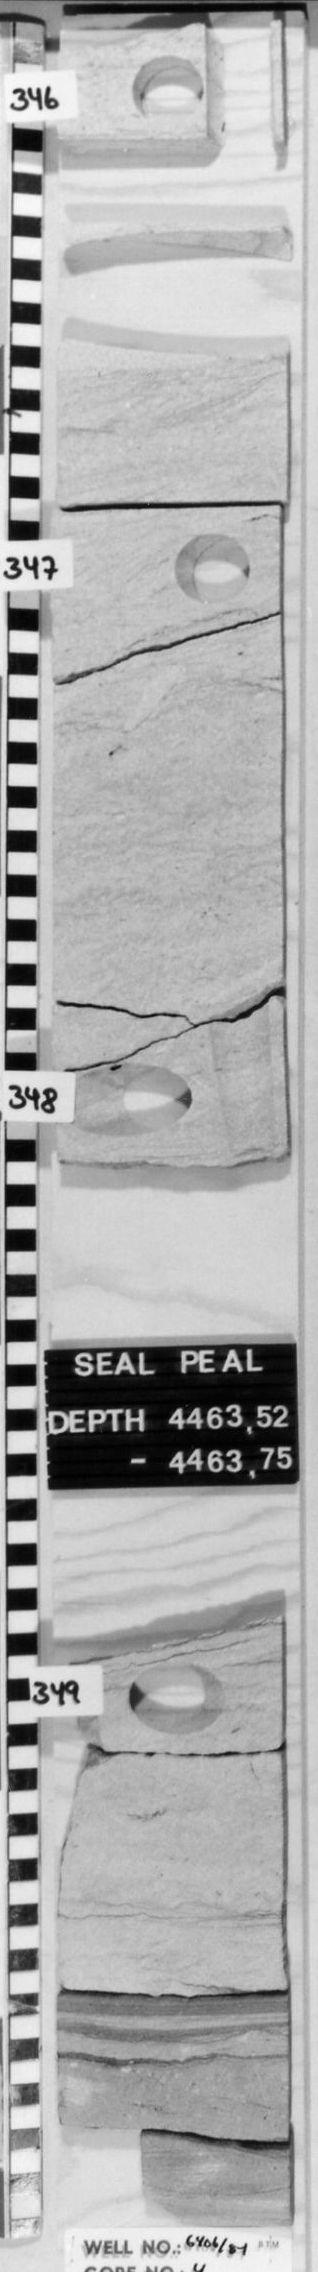hplug: (58, 1059, 200, 1146), (168, 526, 254, 609), (125, 51, 205, 128)
scal: (61, 227, 288, 369)
vplug: (205, 1008, 282, 1159), (200, 25, 282, 143)
